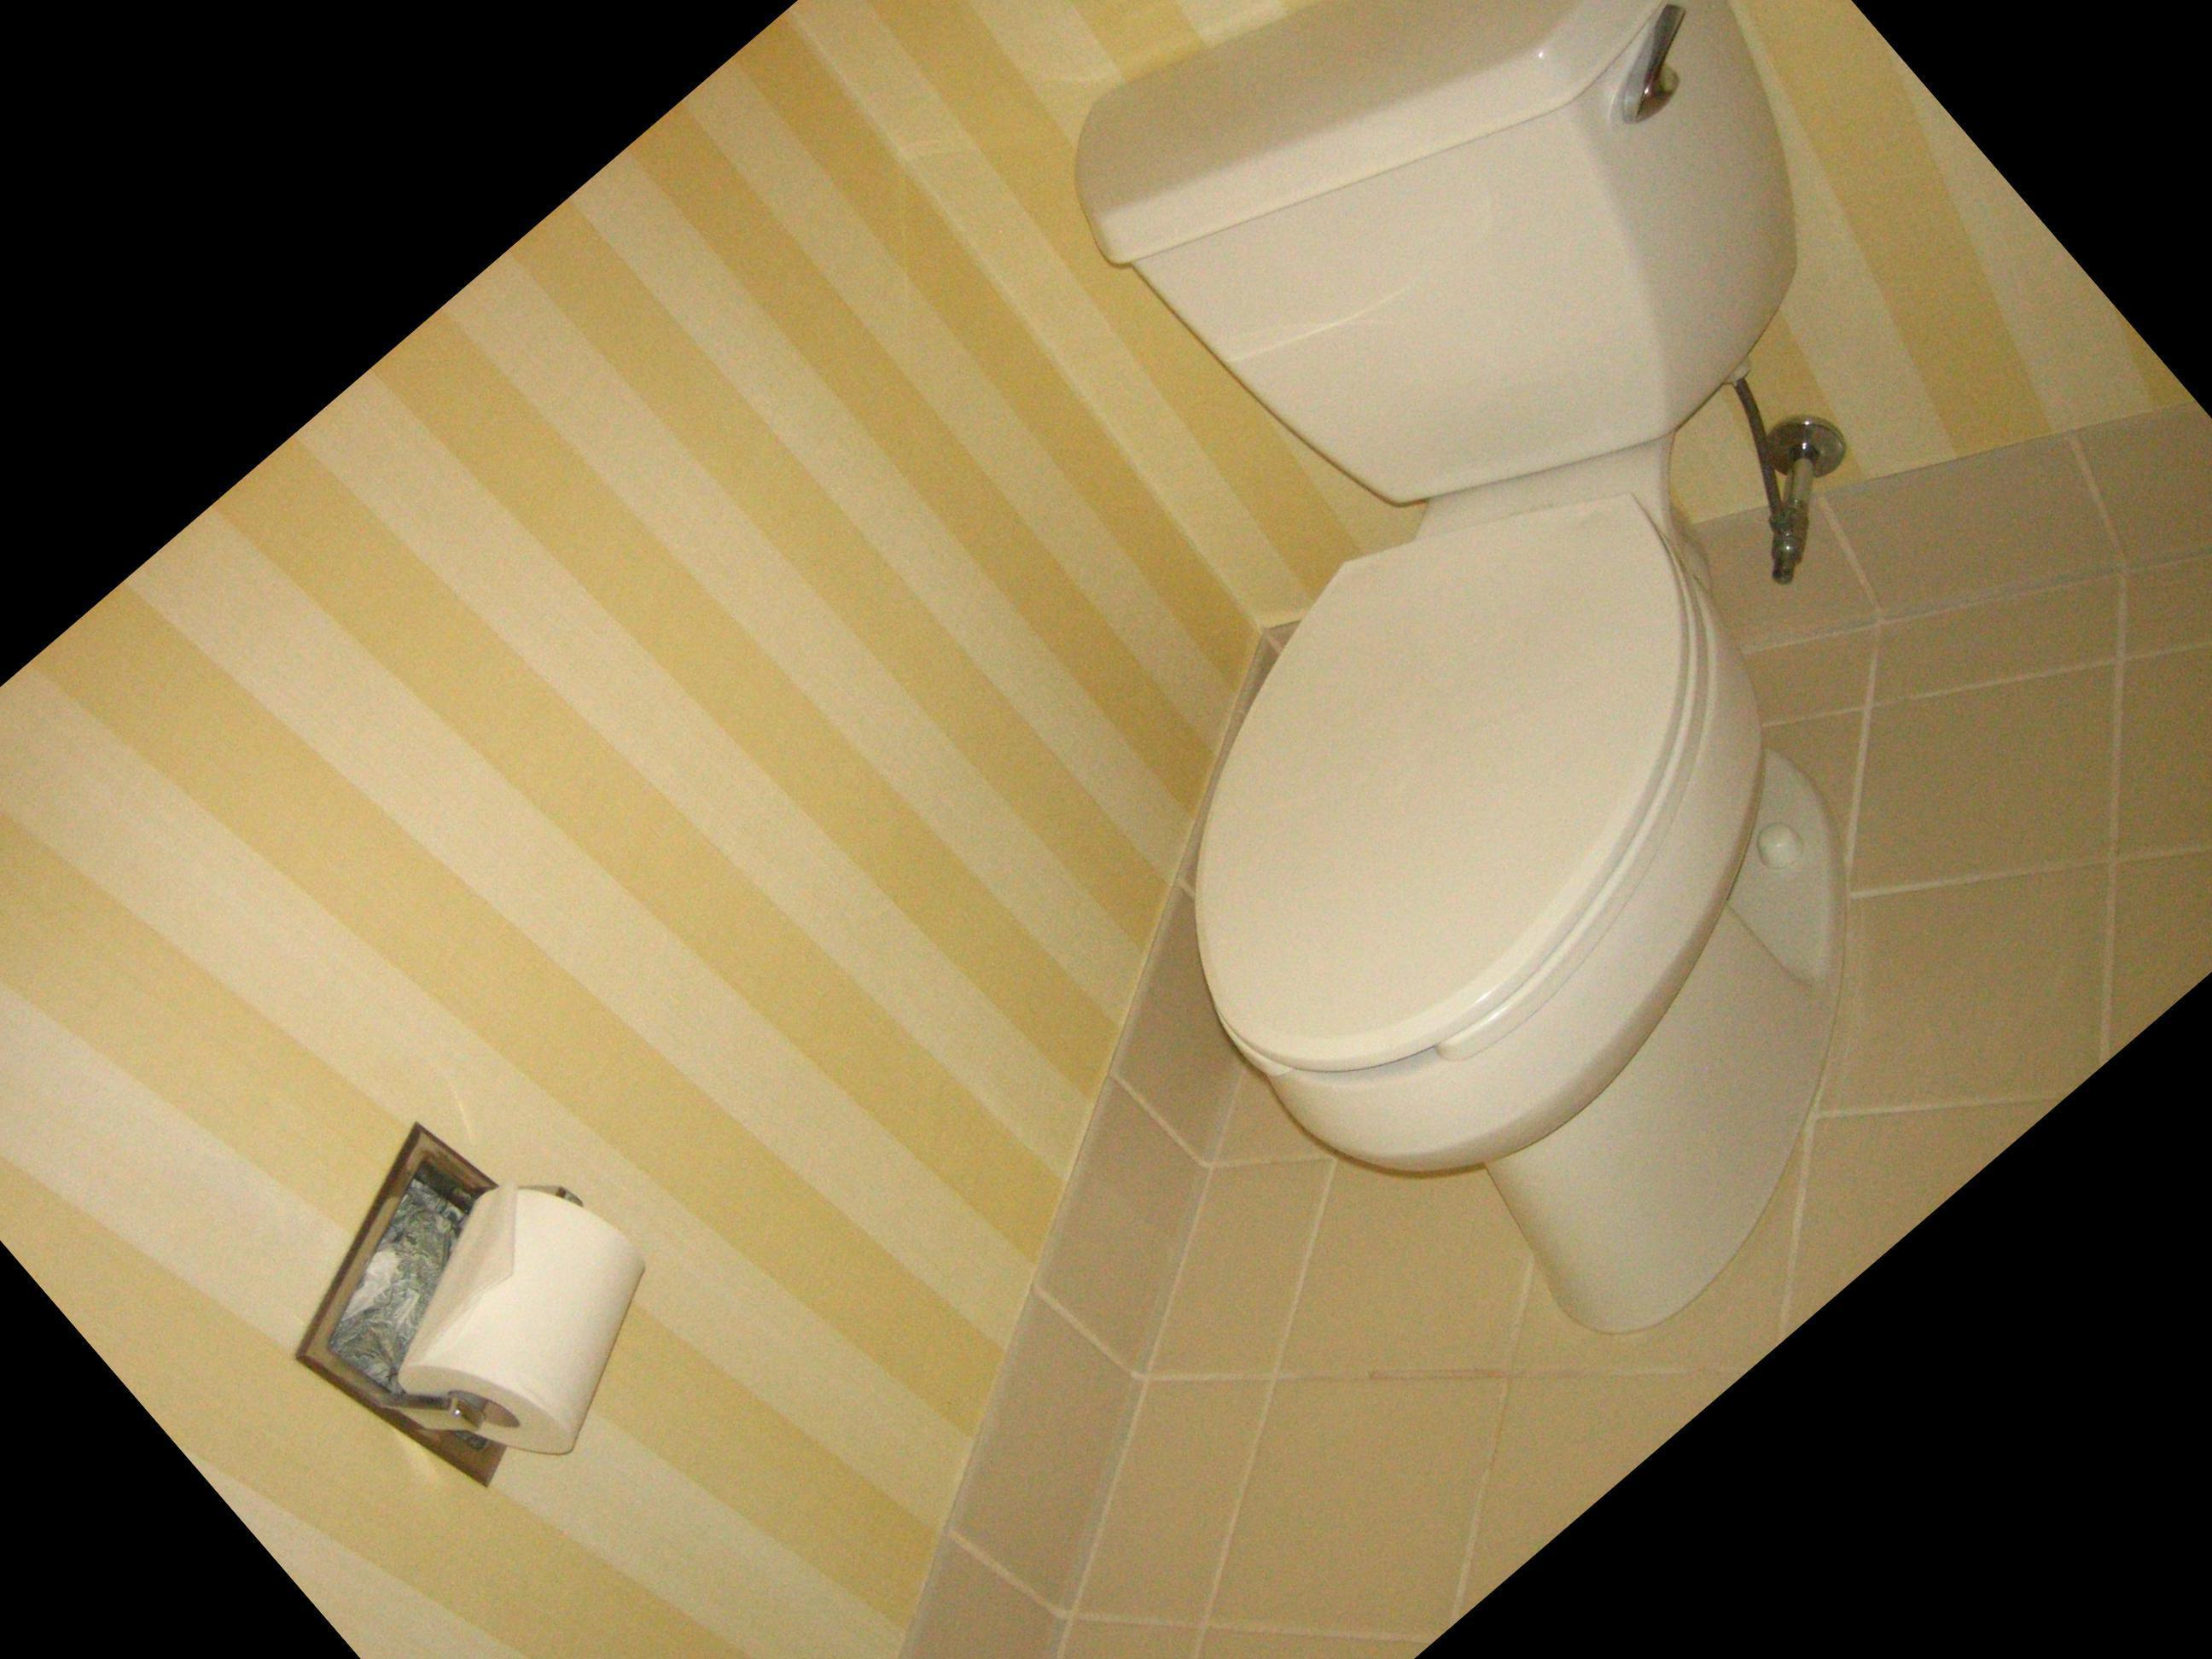Sanitario: (660, 0, 2212, 1560)
